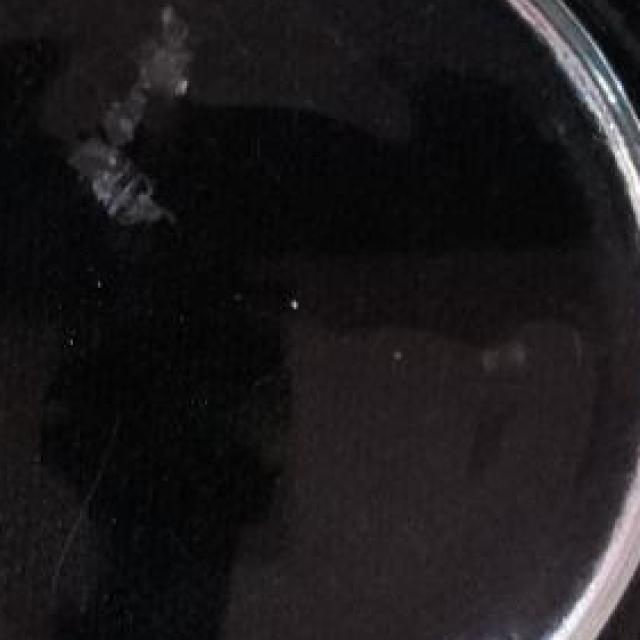Microplastic: (75, 0, 212, 236)
